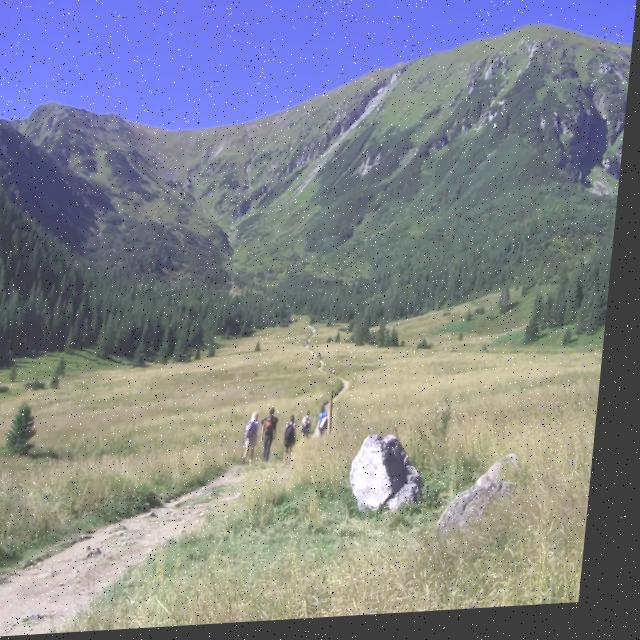Kopa Kondracka: (429, 0, 628, 77)
